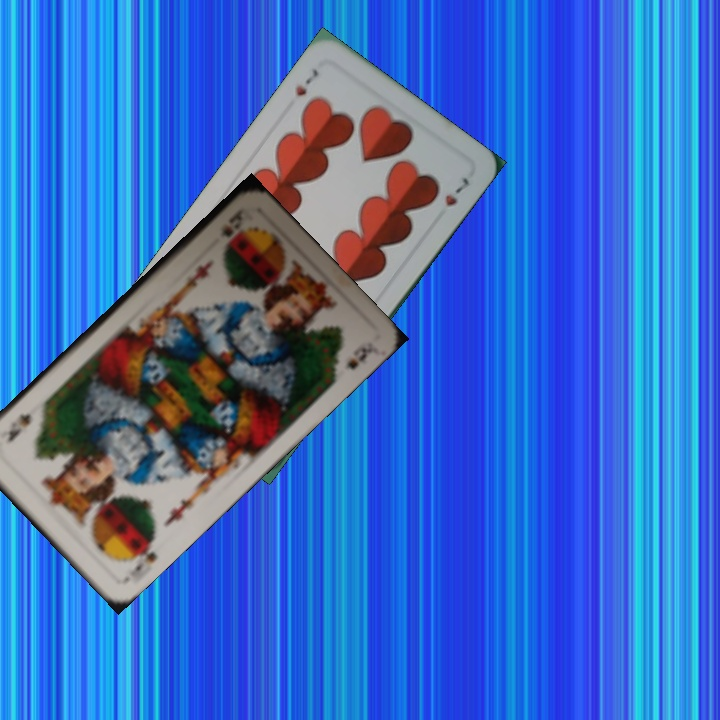H7: (290, 64, 322, 99)
SK: (124, 532, 160, 574), (218, 203, 246, 240)
